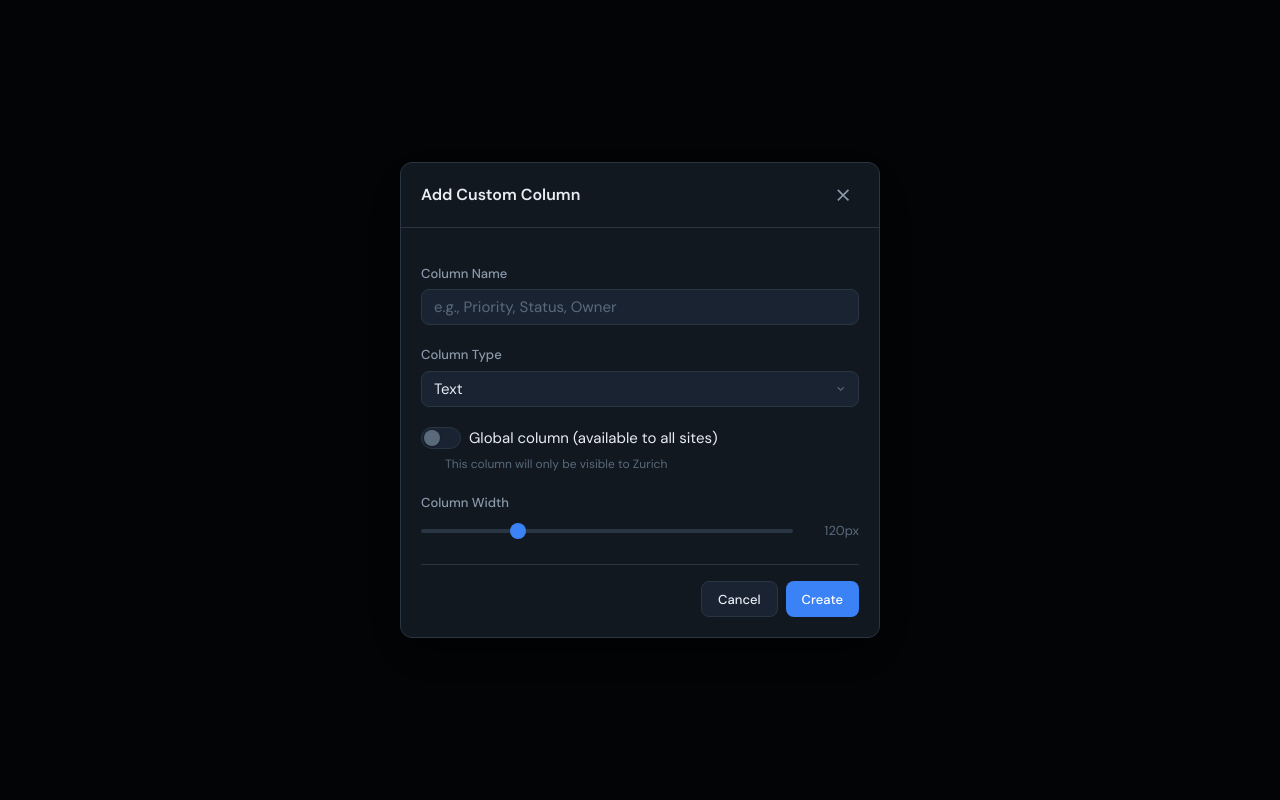
CustomColumnModal create › shows the save error and stays open
This screenshot has width=1280, height=800.
Type "Owner" into the field with placeholder "e.g., Priority, Status, Owner" at (640, 307), box [421,289,859,325]
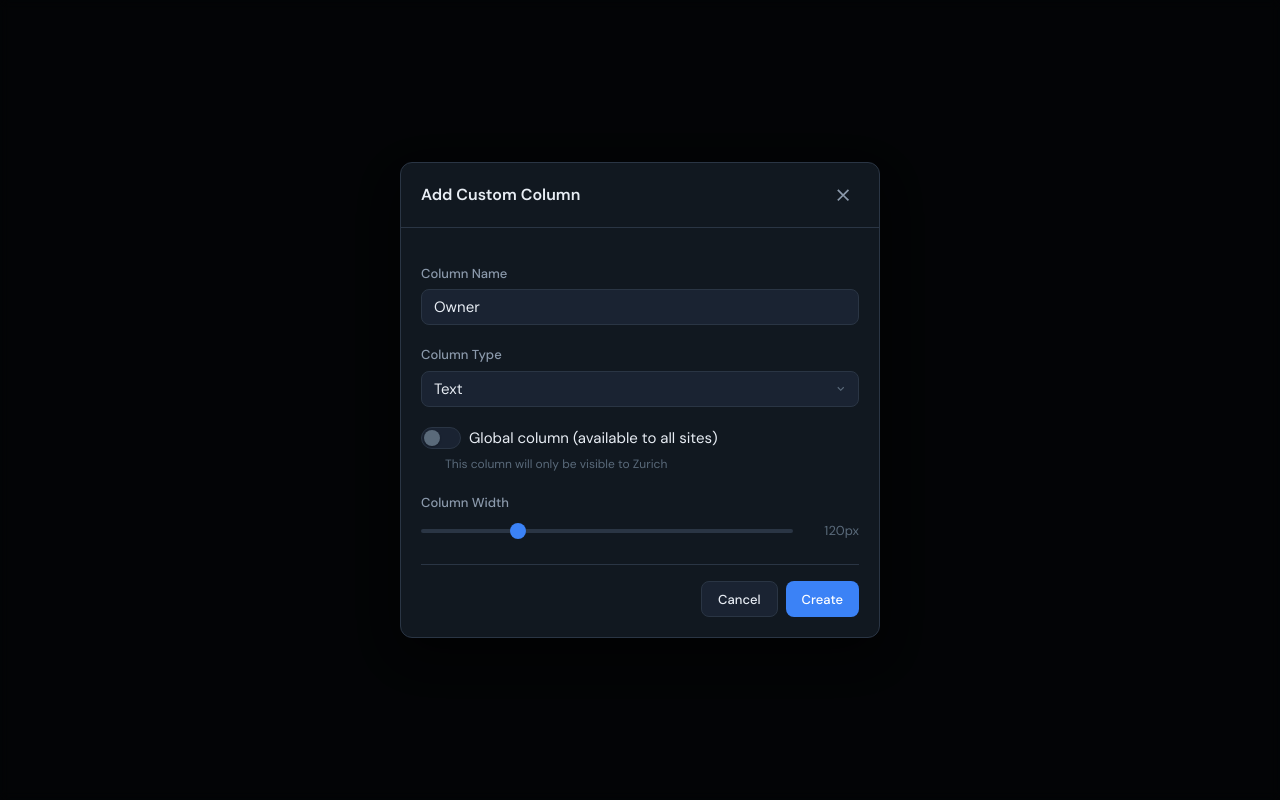
Click the button "Create" at (822, 599), box [786,581,859,617]
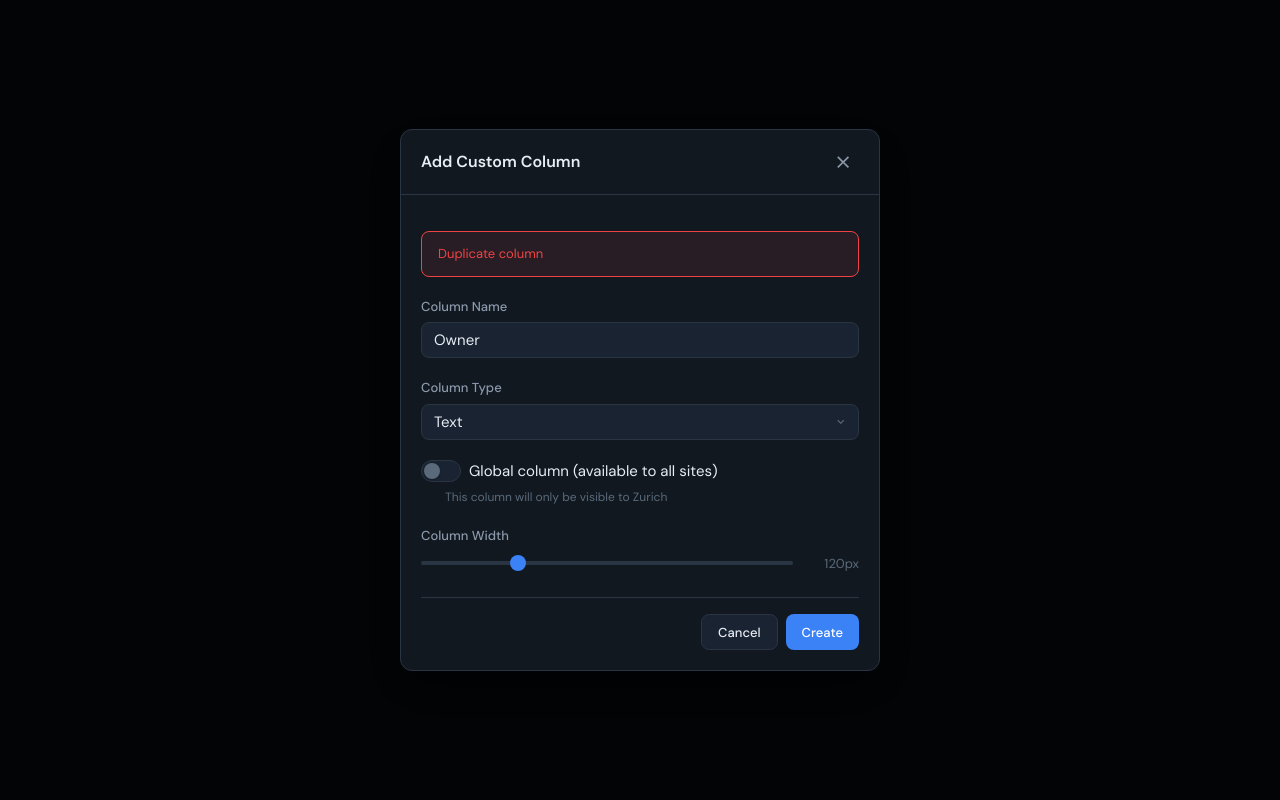
Expected: the text "Duplicate column" is shown, [421,231,859,276]
